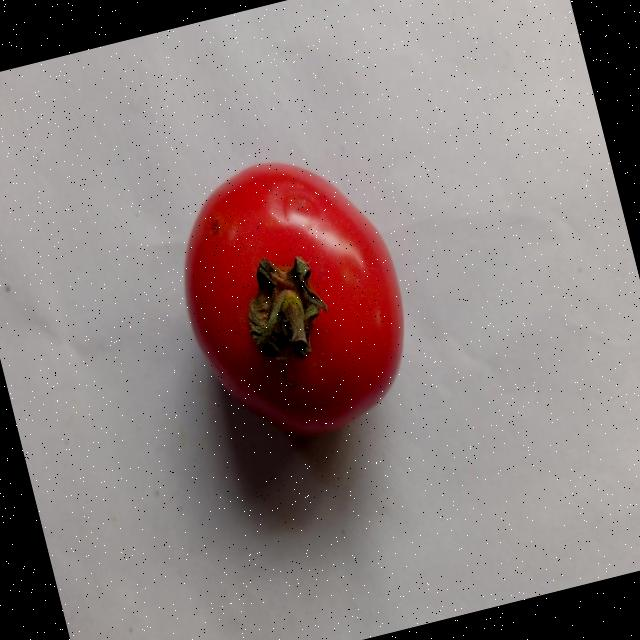Ripe: (150, 128, 436, 460)
